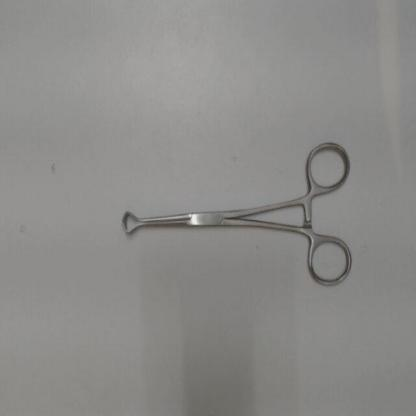Babcock Tissue Forceps: (117, 137, 355, 292)
